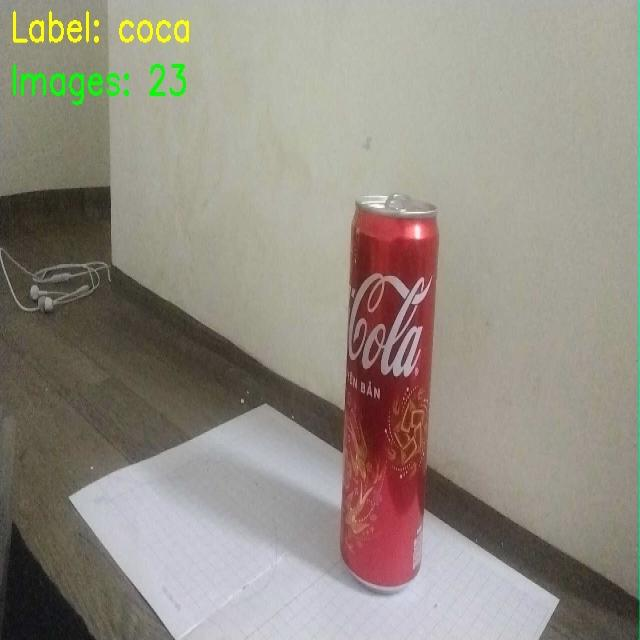Coca: (332, 179, 464, 619)
